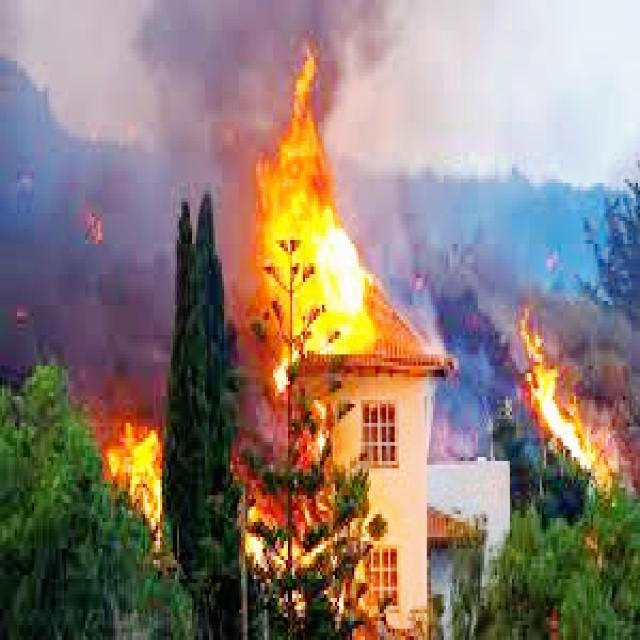api: (265, 175, 333, 360), (521, 318, 591, 495), (111, 404, 163, 530), (340, 230, 376, 356), (294, 87, 324, 170)
asap: (142, 1, 245, 231), (255, 1, 379, 57), (596, 298, 640, 439)
